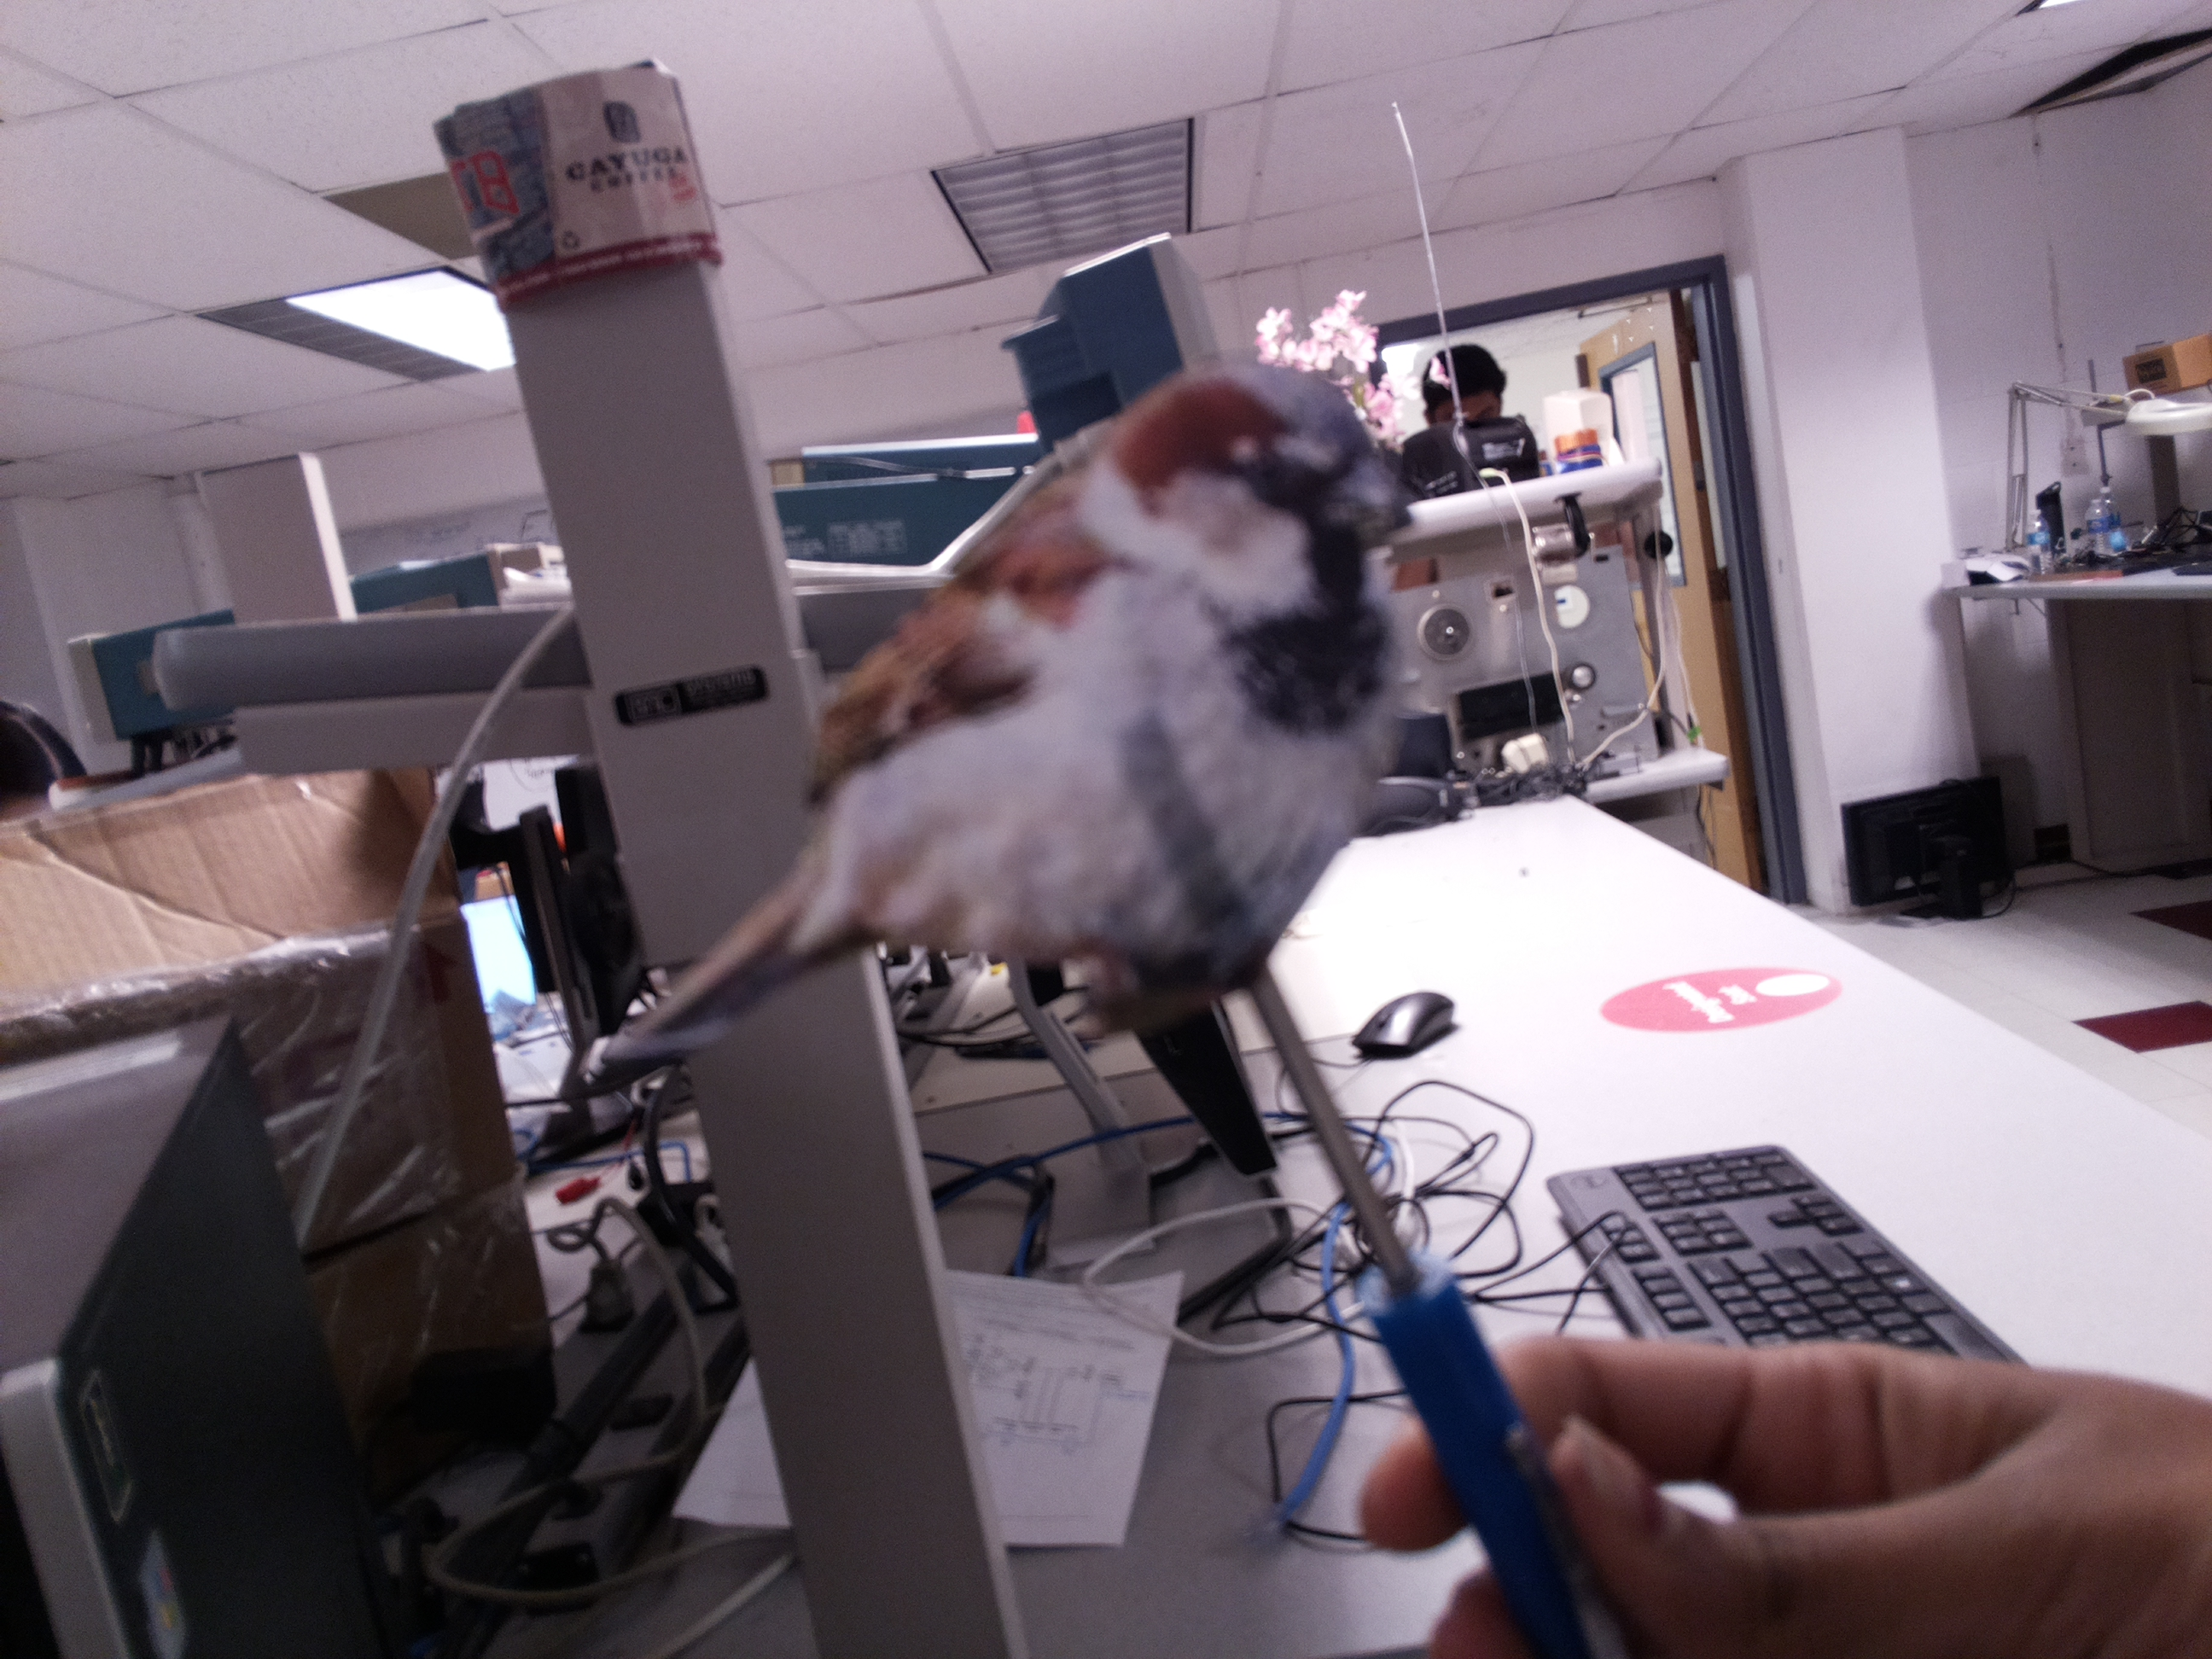bird: (589, 342, 1411, 1079)
